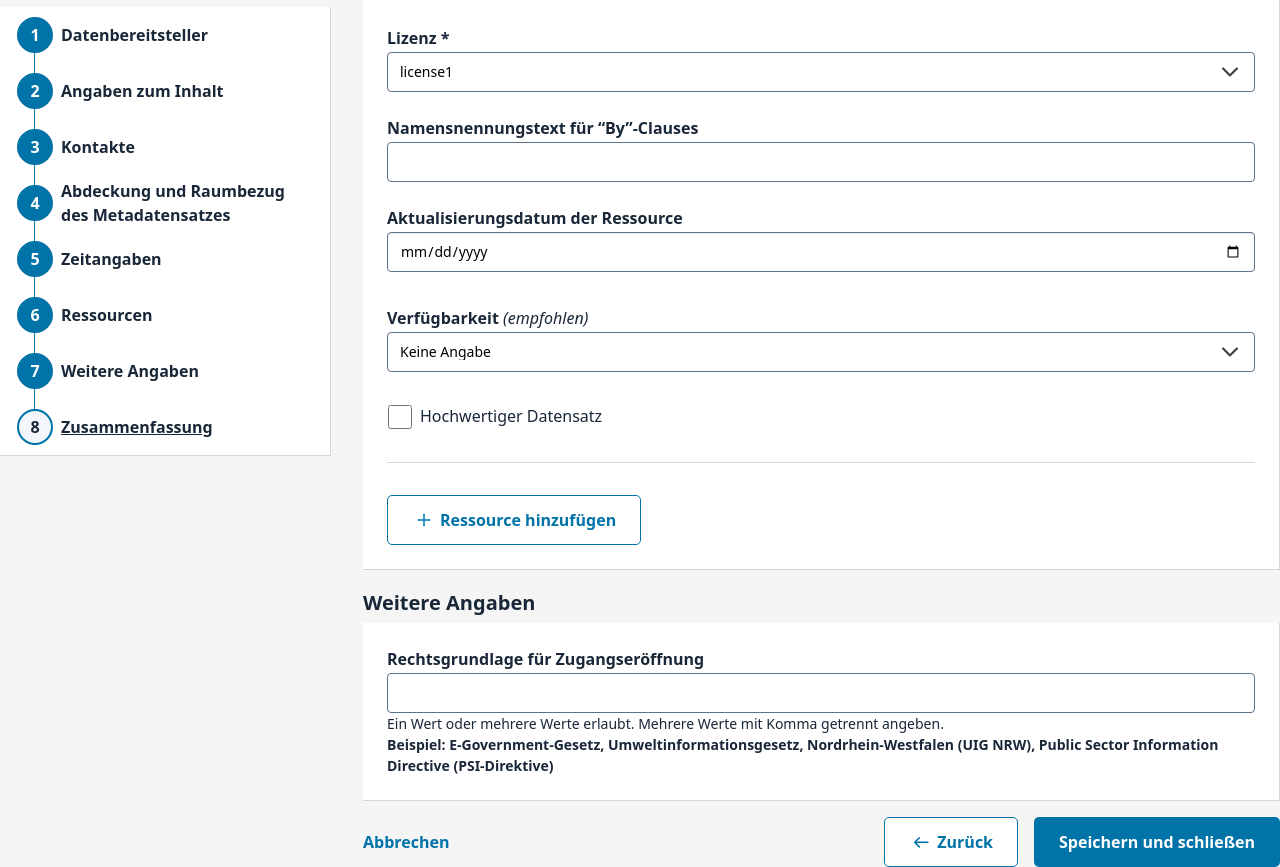
it: MetadataForm › should show a duplicate title error after a failed request
(page scrolled)
Click the button "Speichern und schließen": [1157, 842] box left=1034, top=817, right=1279, bottom=866
(page scrolled)
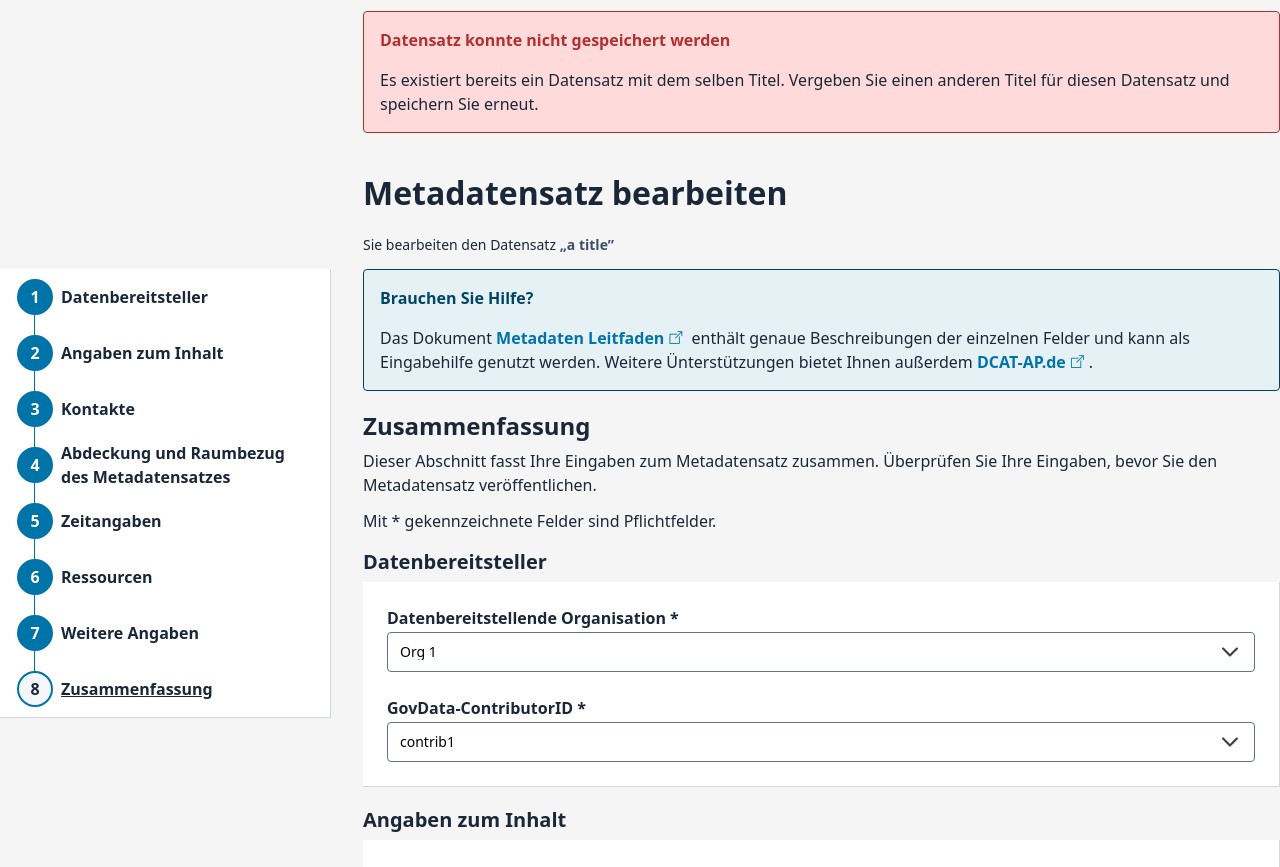
Check: the text "Es existiert bereits ein Datensatz" is shown, box left=380, top=69, right=1230, bottom=115
